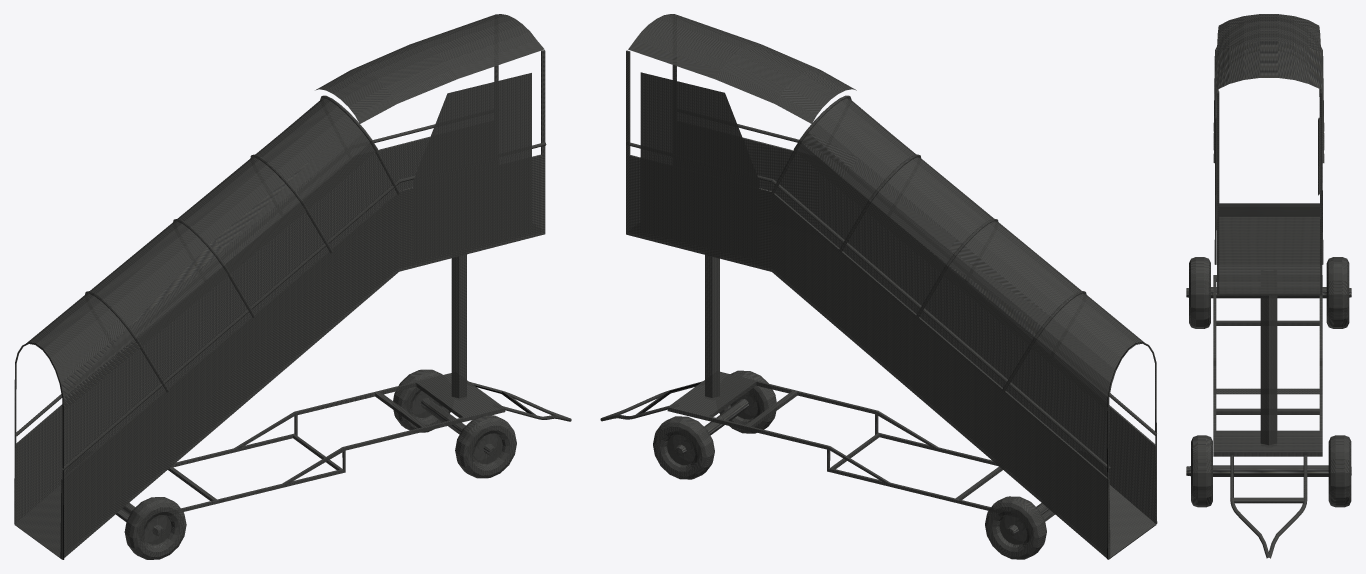
File: EscadaEmb.gltf
3 views of the same model, side by side, from view 1: azimuth 30°, elevation 25°; view 2: azimuth 150°, elevation 25°; view 3: azimuth 270°, elevation 25° (orthographic). The views are drawn at different scales.
Parts seen in each view (by area): view 1: node1; view 2: node1; view 3: node1.
Part boxes in pixels (x1,y1,x2,y2): node1: (14,14,571,559); node1: (600,14,1157,559); node1: (1186,14,1351,558).
Size of the model in its own units: 6.98 by 5.22 by 1.7.
